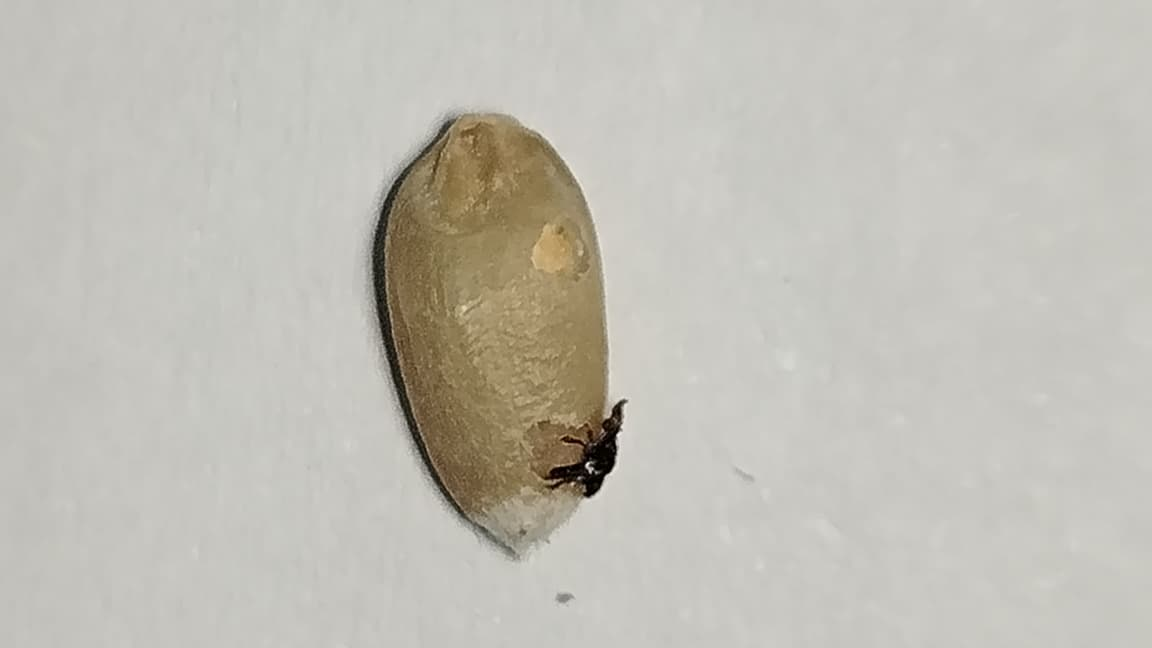damage: (384, 113, 625, 556)
insectdamage: (527, 370, 652, 499), (522, 207, 598, 291)
